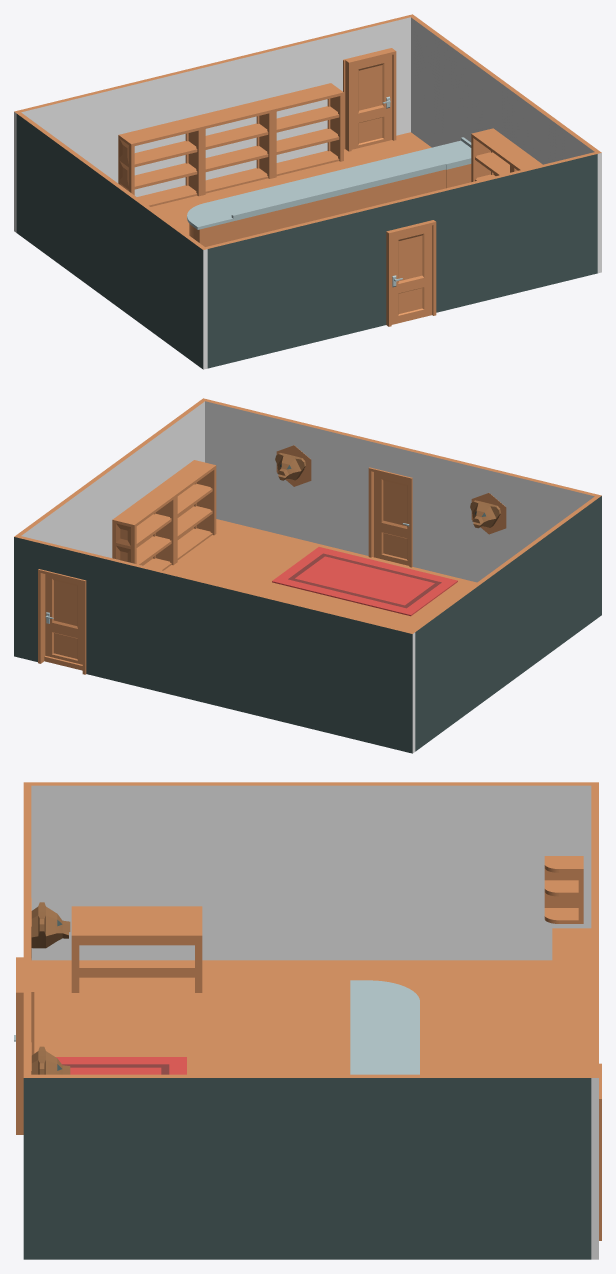
The model's file is boulangeriefinie.fbx.
The picture shows the model from 3 angles, top to bottom: view 1: azimuth 30°, elevation 25°; view 2: azimuth 150°, elevation 25°; view 3: azimuth 270°, elevation 25°; orthographic projection. The views are drawn at different scales.
Visible parts, largest first — view 1: wall_81, wall_76, wall_86, wall_97, wall_82, wall_85, wall_84, wallDoorway_75, wall_83, wall_96, wallDoorway_95, bookcaseClosedWide_23 (+23 smaller); view 2: wall_97, wall_91, wall_96, wall_85, wallDoorway_95, wall_76, wallDoorway_75, wall_82, wall_86, rugRectangle_101, wall_84, wall_83 (+19 smaller); view 3: wall_87, wall_88, wall_89, wall_84, wall_90, wall_83, wall_82, wall_92, floorFull_57, floorFull_47, table_100, floorFull_60 (+20 smaller).
Boxes of the visible parts, x1,y1,x2,y2 form: wall_81: (205, 227, 296, 368); wall_76: (276, 208, 367, 350); wall_86: (508, 152, 597, 294); wall_97: (187, 38, 330, 180); wall_82: (147, 208, 207, 369); wall_85: (447, 167, 535, 307); wall_84: (47, 135, 102, 292); wallDoorway_75: (365, 186, 455, 329); wall_83: (98, 172, 153, 329); wall_96: (103, 66, 202, 196); wallDoorway_95: (315, 14, 414, 152); bookcaseClosedWide_23: (118, 117, 201, 206); wall_97: (98, 556, 240, 711); wall_91: (315, 608, 415, 753); wall_96: (226, 587, 324, 731); wall_85: (267, 414, 357, 550); wallDoorway_95: (14, 535, 113, 679); wall_76: (435, 455, 526, 582); wallDoorway_75: (347, 434, 437, 572); wall_82: (542, 494, 601, 655); wall_86: (205, 399, 294, 530); rugRectangle_101: (272, 547, 457, 616); wall_84: (443, 571, 496, 728); wall_83: (493, 535, 545, 691); wall_87: (23, 1074, 194, 1259); wall_88: (179, 1074, 350, 1259); wall_89: (319, 1074, 489, 1259); wall_84: (342, 782, 497, 960); wall_90: (404, 1074, 591, 1259); wall_83: (187, 782, 342, 960); wall_82: (23, 782, 194, 960); wall_92: (435, 782, 591, 960); floorFull_57: (140, 960, 295, 1025); floorFull_47: (435, 960, 552, 1025); table_100: (71, 906, 202, 992); floorFull_60: (187, 1026, 342, 1074).
Size of the model in its own units: 45 by 12.9 by 37.82.
